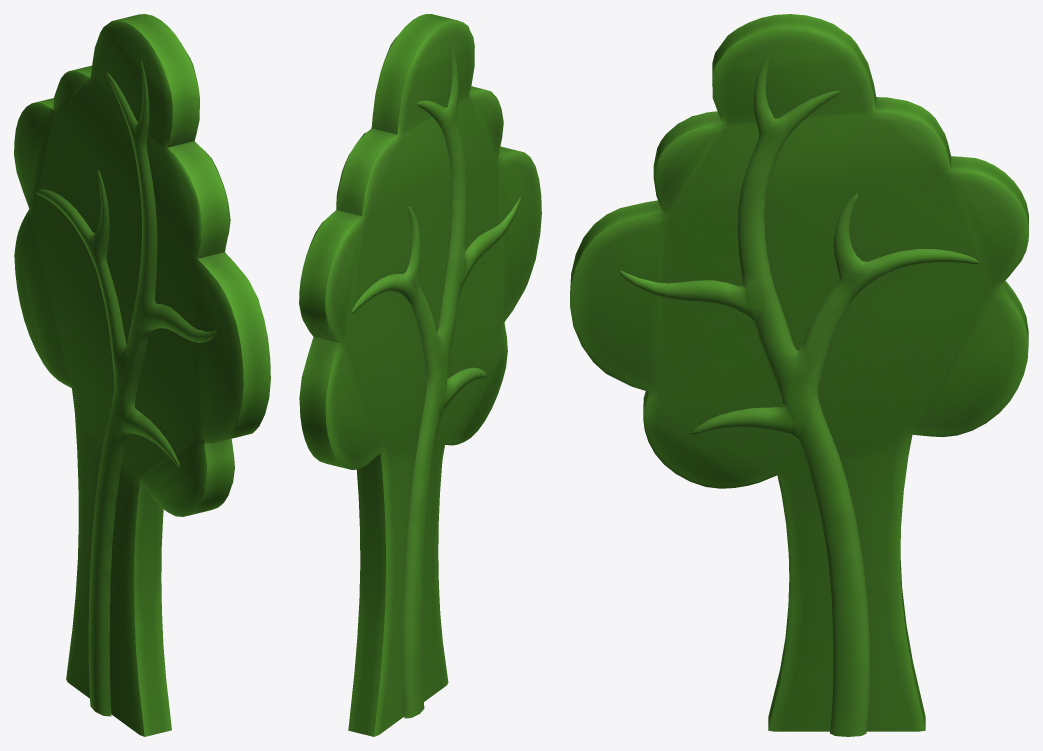
The model's file is tree_Baum_EXPORT.FBX.
3 views of the same model, side by side, from view 1: azimuth 30°, elevation 25°; view 2: azimuth 150°, elevation 25°; view 3: azimuth 270°, elevation 25° (orthographic). The views are drawn at different scales.
Parts seen in each view (by area): view 1: tree_Baum_EXPORT; view 2: tree_Baum_EXPORT; view 3: tree_Baum_EXPORT.
Part boxes in pixels (x1=…): tree_Baum_EXPORT: x1=14, y1=14, x2=270, y2=736; tree_Baum_EXPORT: x1=299, y1=14, x2=541, y2=736; tree_Baum_EXPORT: x1=570, y1=14, x2=1028, y2=736.
Size of what is drawn, in the model's own units: 19.4 by 164 by 278.
